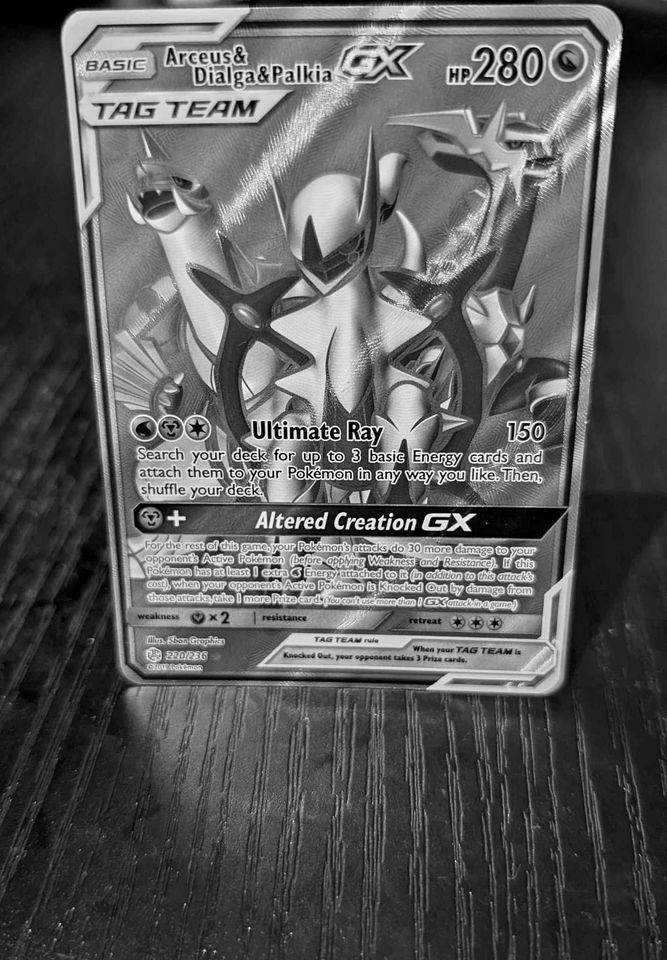card: (58, 4, 627, 699)
